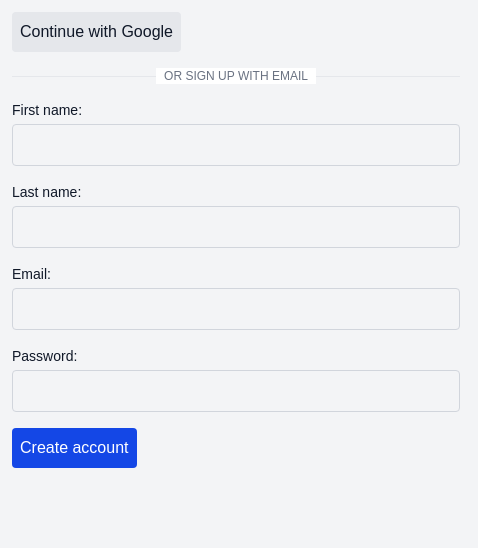
Scenario: SignUpForm › email/password submit › shows the mapped message when registerUser returns an error code
Type "Jane" into the field labelled "First name:" at (236,145), box [12,124,460,166]
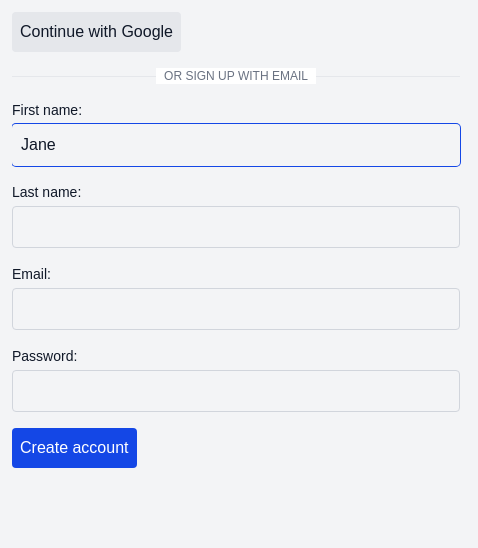
Type "Doe" into the field labelled "Last name:" at (236,227), box [12,206,460,248]
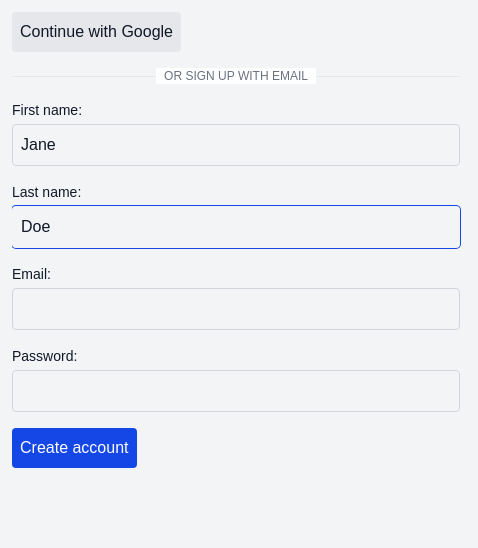
Type "taken@example.com" into the field labelled "Email:" at (236,309), box [12,288,460,330]
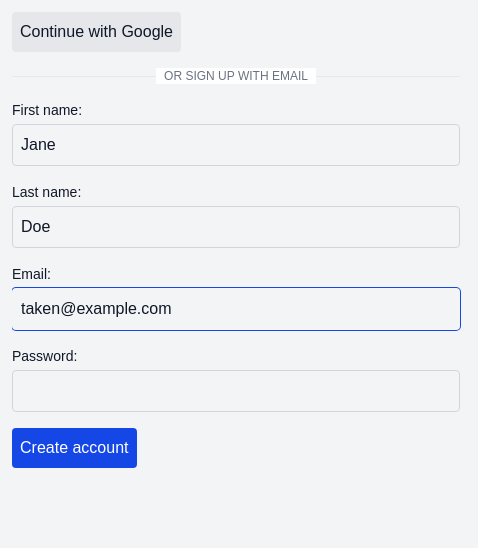
Type "password1" into the password field labelled "Password:" at (236,391), box [12,370,460,412]
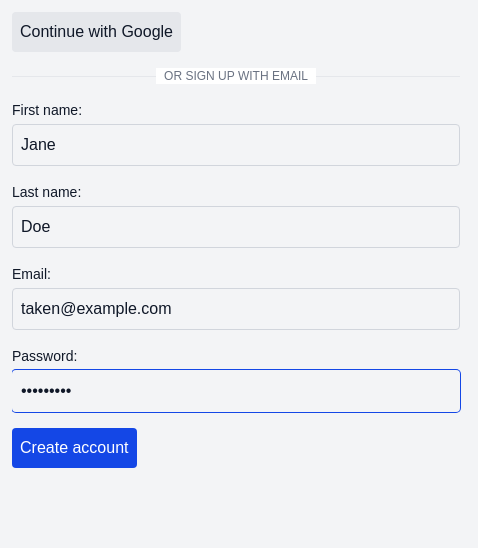
Click the button "Create account" at (74,448), box [12,428,136,468]
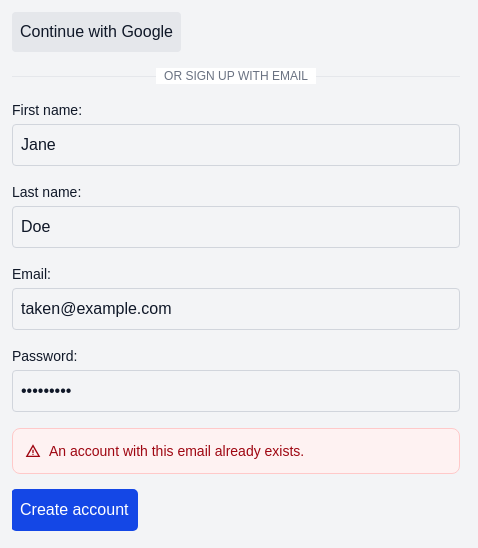
Now the text "An account with this email already exists." is shown, box [25,443,304,459]
